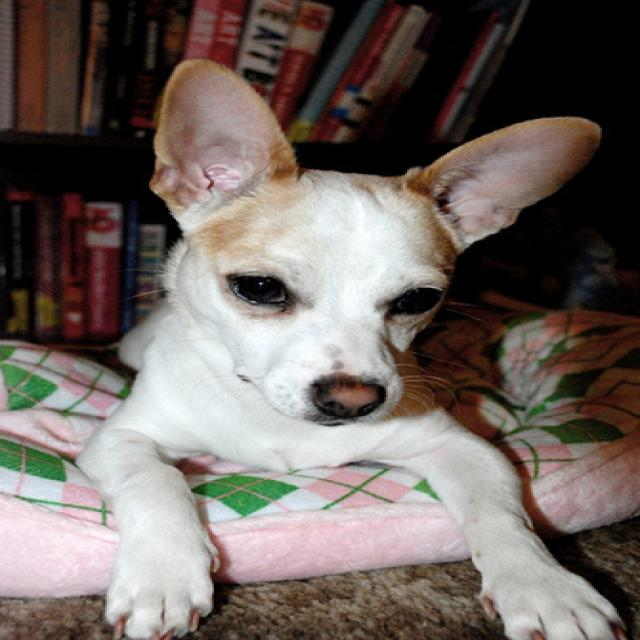dog-chihuahua: (55, 49, 634, 637)
